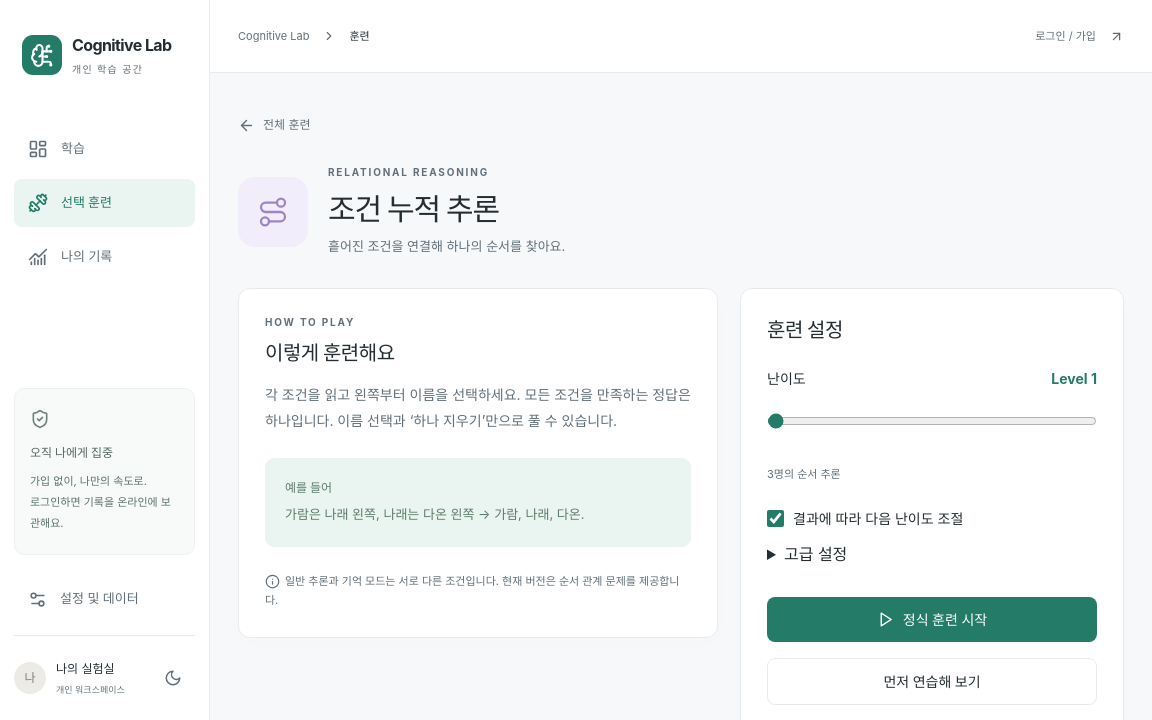
Test: completes, persists and reloads a real reasoning session
Earlier steps of the test are not shown.
Later steps or results of the test are not shown.
Click the button "정식 훈련 시작" at (932, 620), box [767,597,1097,642]
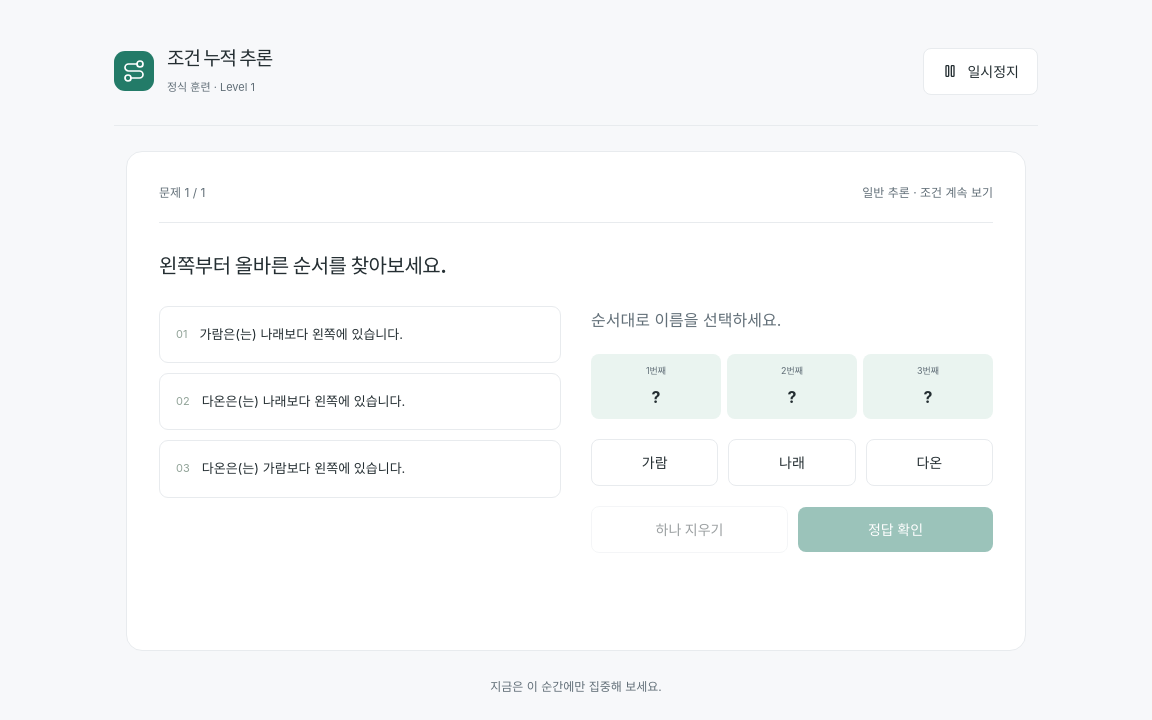
Result: the heading "왼쪽부터 올바른 순서를 찾아보세요." is shown at [159,254,446,278]
Click the button "가람" at (655, 462), box [591,439,718,486]
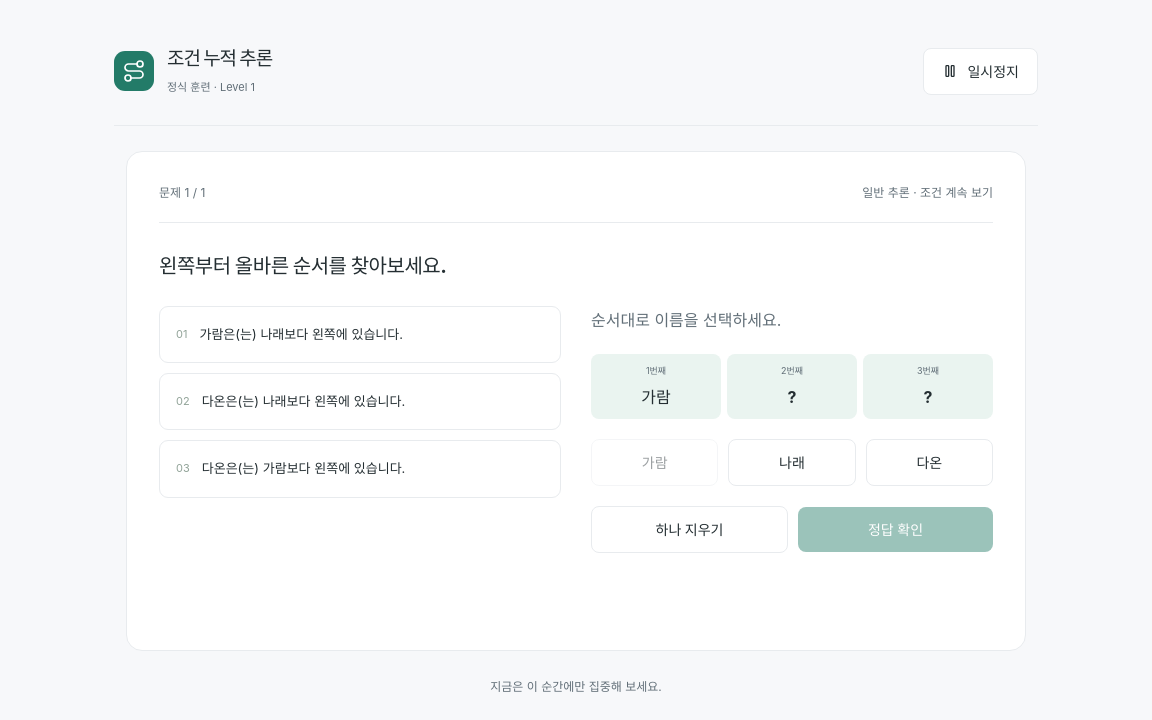
Click the button "나래" at (792, 462), box [728,439,856,486]
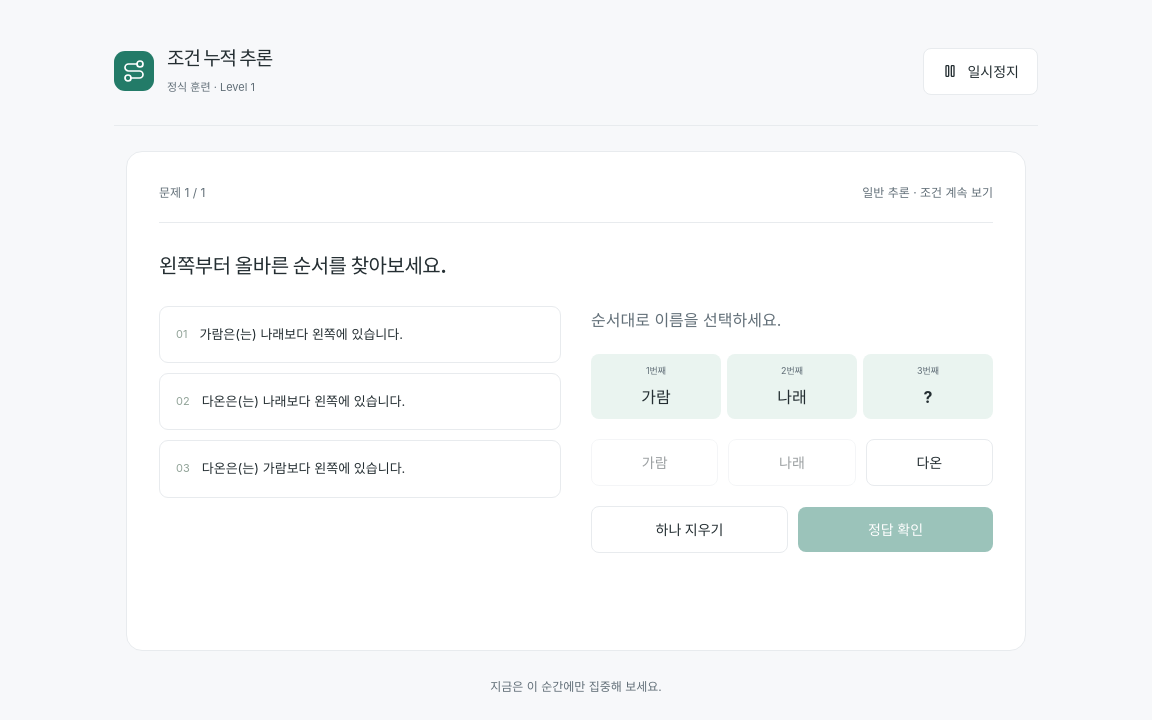
Click the button "다온" at (929, 462), box [866,439,993,486]
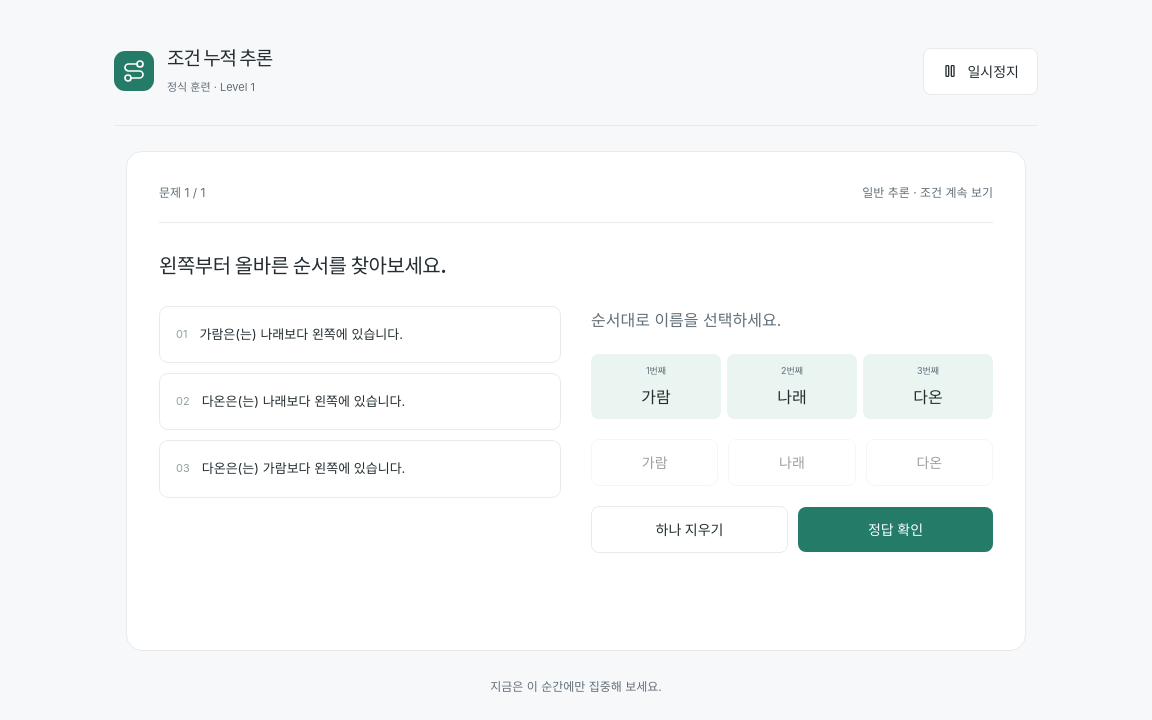
Click the button "정답 확인" at (896, 529), box [798,507,993,552]
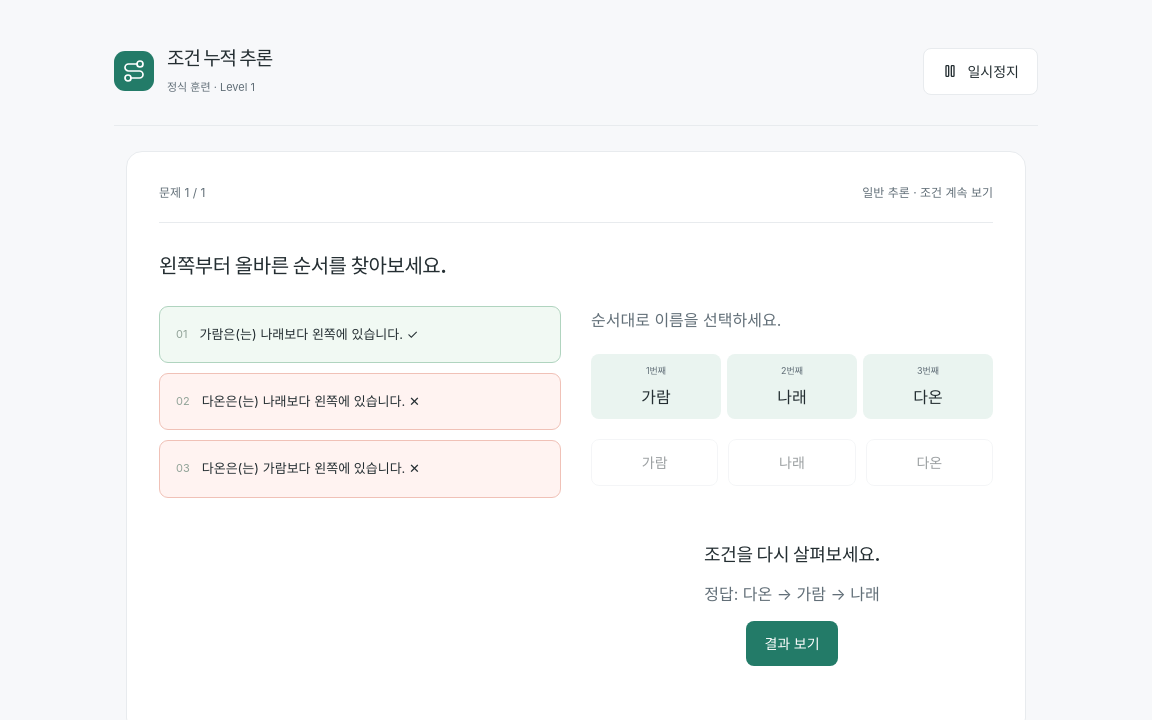
Click the button "결과 보기" at (792, 643), box [746,621,838,666]
(page scrolled)
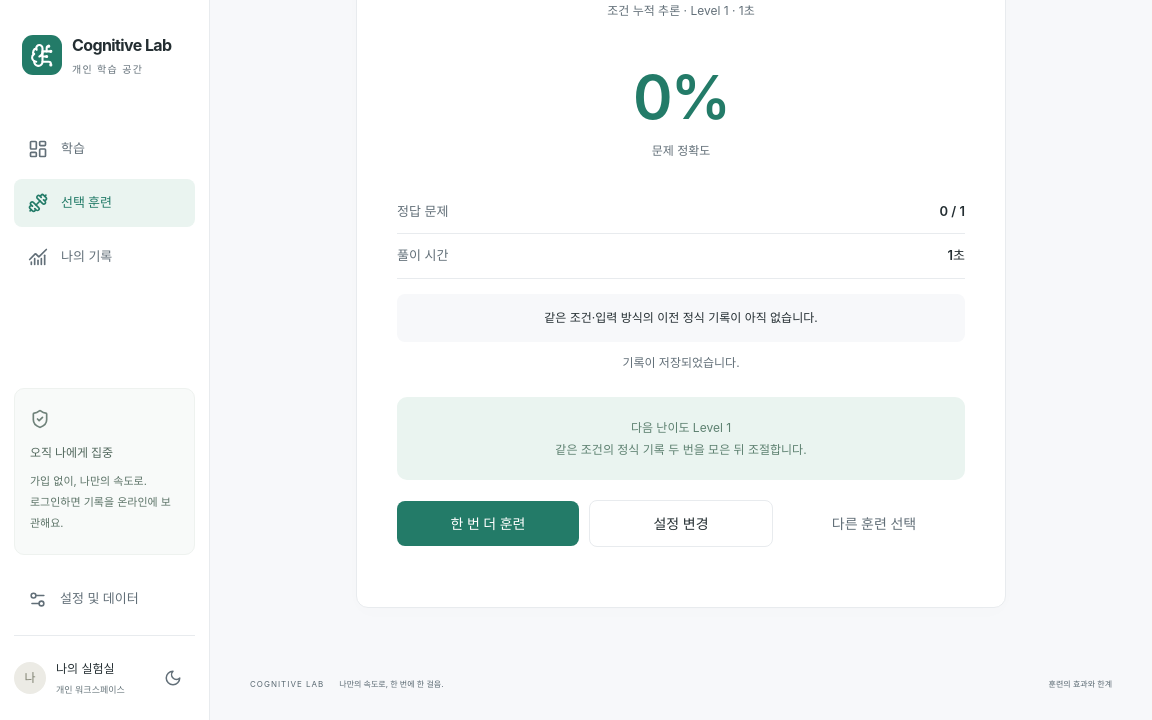
Result: the text "기록이 저장되었습니다." is shown at [622,355,740,370]
